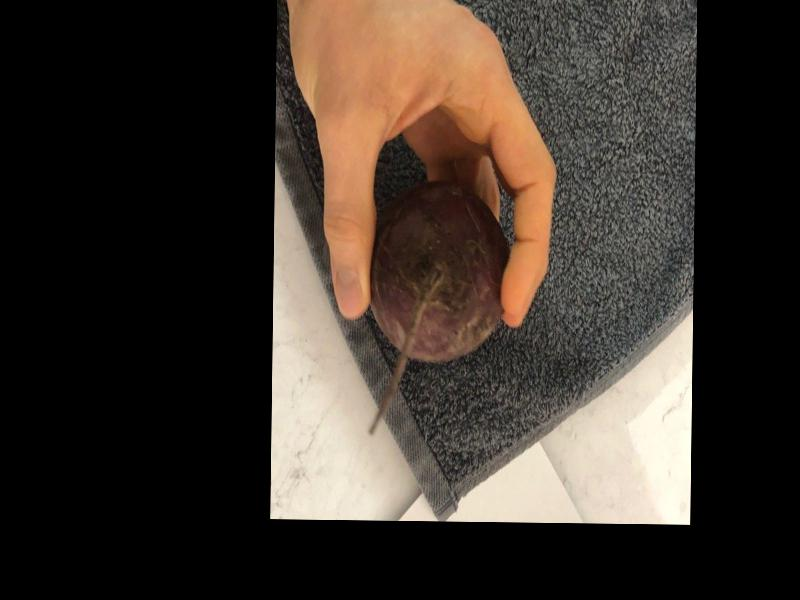Beet: (367, 181, 510, 437)
